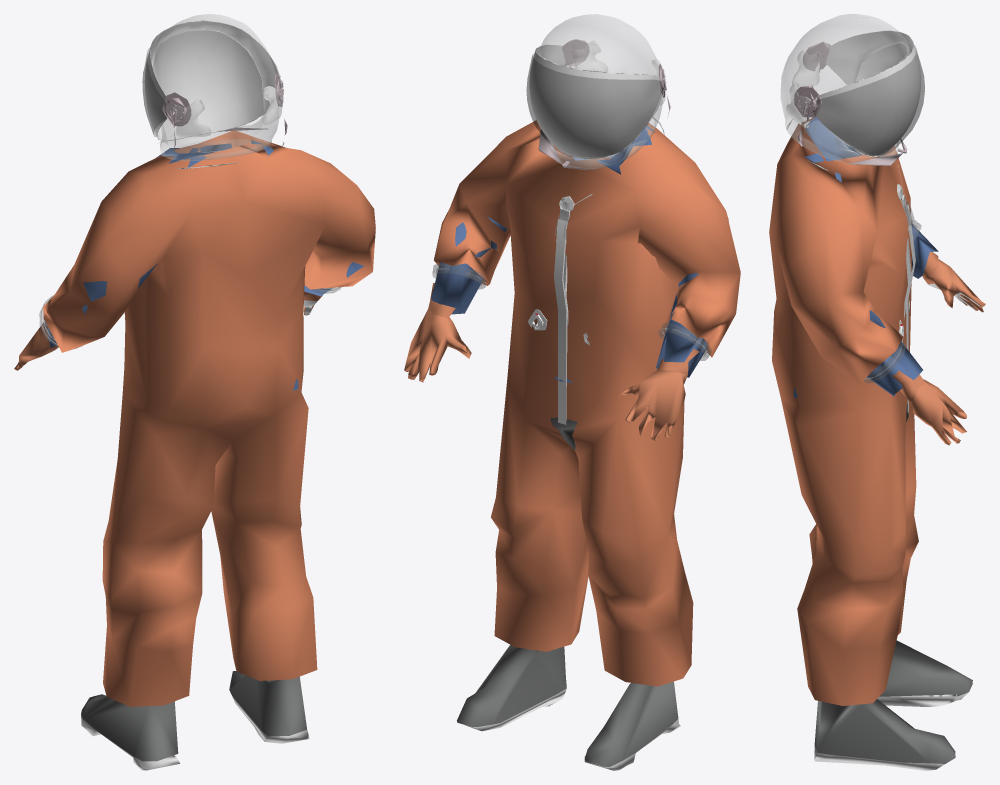
The model's file is space-advanced-crew-escape-suit.glb.
3 renders of one model, left to right at view 1: azimuth 30°, elevation 25°; view 2: azimuth 150°, elevation 25°; view 3: azimuth 270°, elevation 25°, orthographic. The views are drawn at different scales.
Parts seen in each view (by area): view 1: Advanced Crew Escape Suit; view 2: Advanced Crew Escape Suit; view 3: Advanced Crew Escape Suit.
Boxes of the visible parts, bbox=[...] form: Advanced Crew Escape Suit: bbox=[14, 14, 375, 770]; Advanced Crew Escape Suit: bbox=[404, 14, 740, 770]; Advanced Crew Escape Suit: bbox=[769, 14, 985, 770].
Bounding box in the file's own units: 0.8871 × 1.99 × 0.5535.
Materials: 2 (2 with a texture image).
